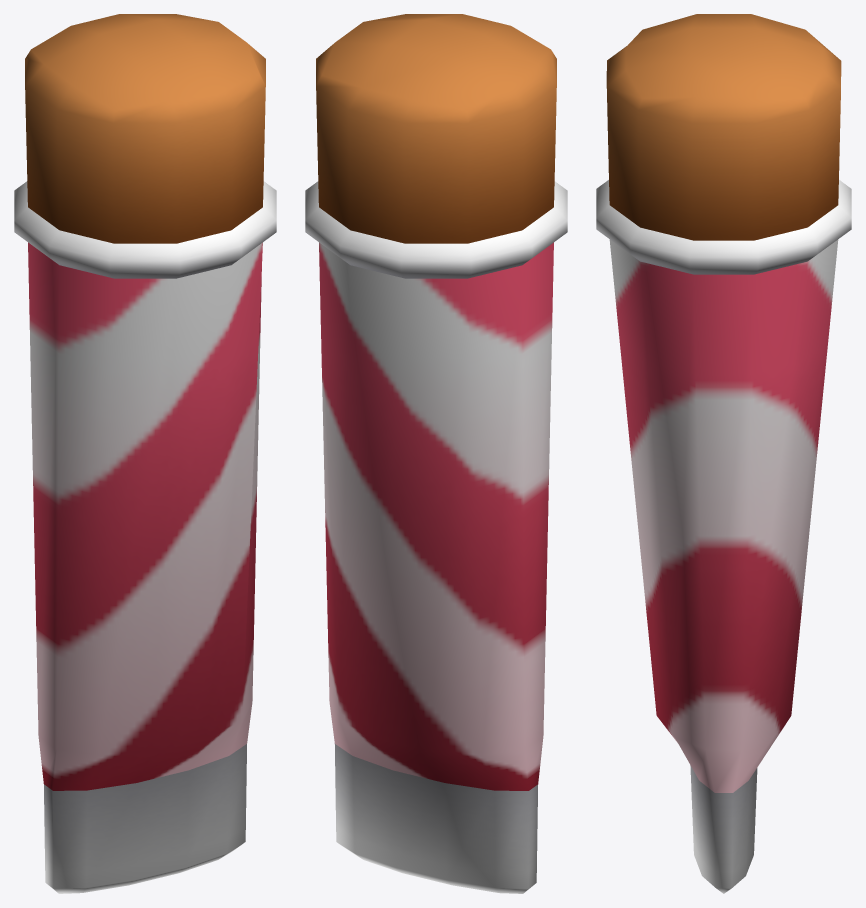
File: m_PushPop03.fbx
The picture shows the model from 3 angles, left to right: view 1: azimuth 30°, elevation 25°; view 2: azimuth 150°, elevation 25°; view 3: azimuth 270°, elevation 25°; orthographic projection. The views are drawn at different scales.
Parts seen in each view (by area): view 1: m_PushPop03; view 2: m_PushPop03; view 3: m_PushPop03.
Part boxes in pixels (x1,y1,x2,y2): m_PushPop03: [14, 14, 276, 893]; m_PushPop03: [305, 14, 567, 893]; m_PushPop03: [596, 14, 851, 893].
Bounding box in the file's own units: 6.5 × 22.79 × 6.5.
